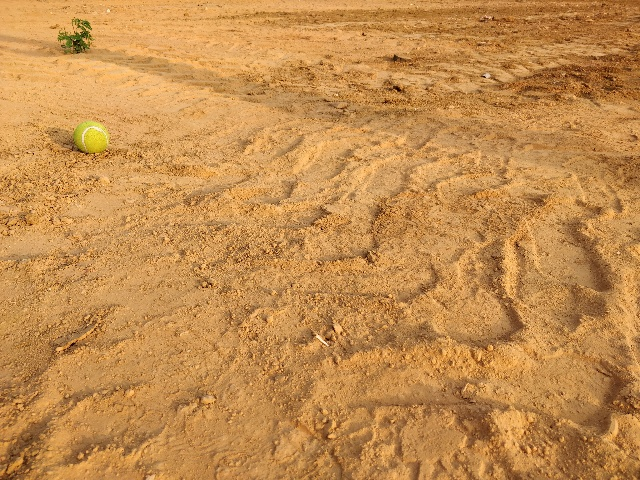ball: (70, 117, 115, 158)
